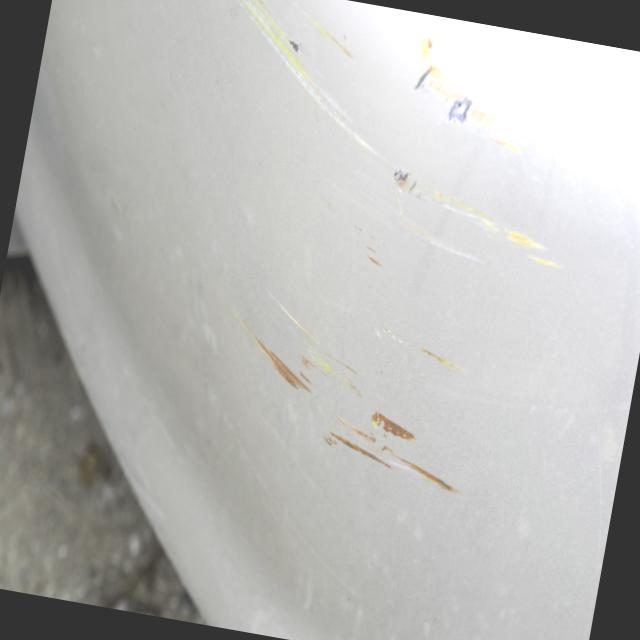Rayure: (197, 260, 492, 504), (375, 167, 579, 310), (396, 25, 544, 176), (308, 196, 398, 277)
